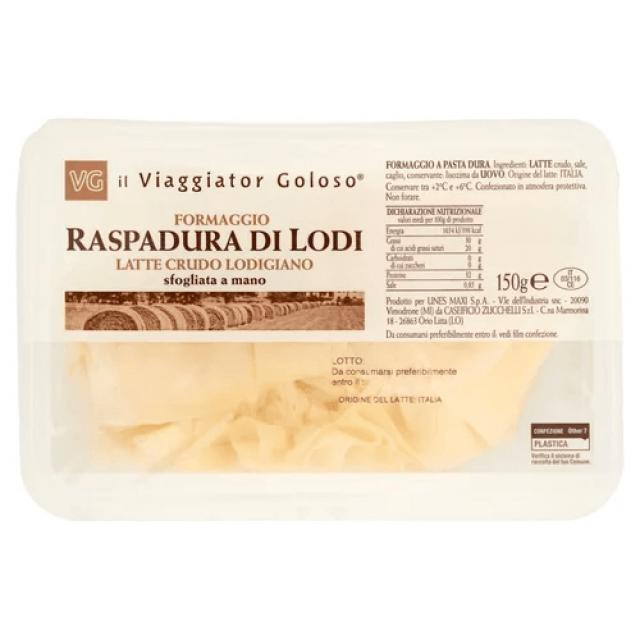cheese: (14, 118, 625, 524)
